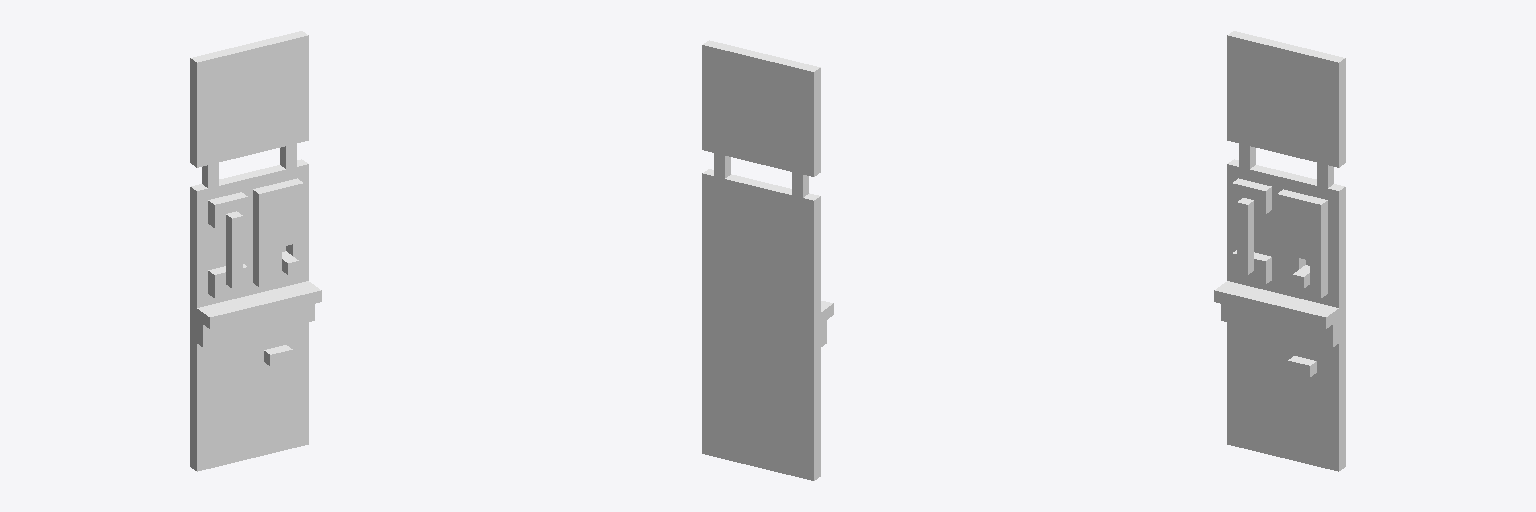
The model's file is phone.obj.
3 views of the same model, side by side, from view 1: azimuth 30°, elevation 25°; view 2: azimuth 150°, elevation 25°; view 3: azimuth 330°, elevation 25° (orthographic).
Size of the model in its own units: 0.5 by 1.75 by 0.15.